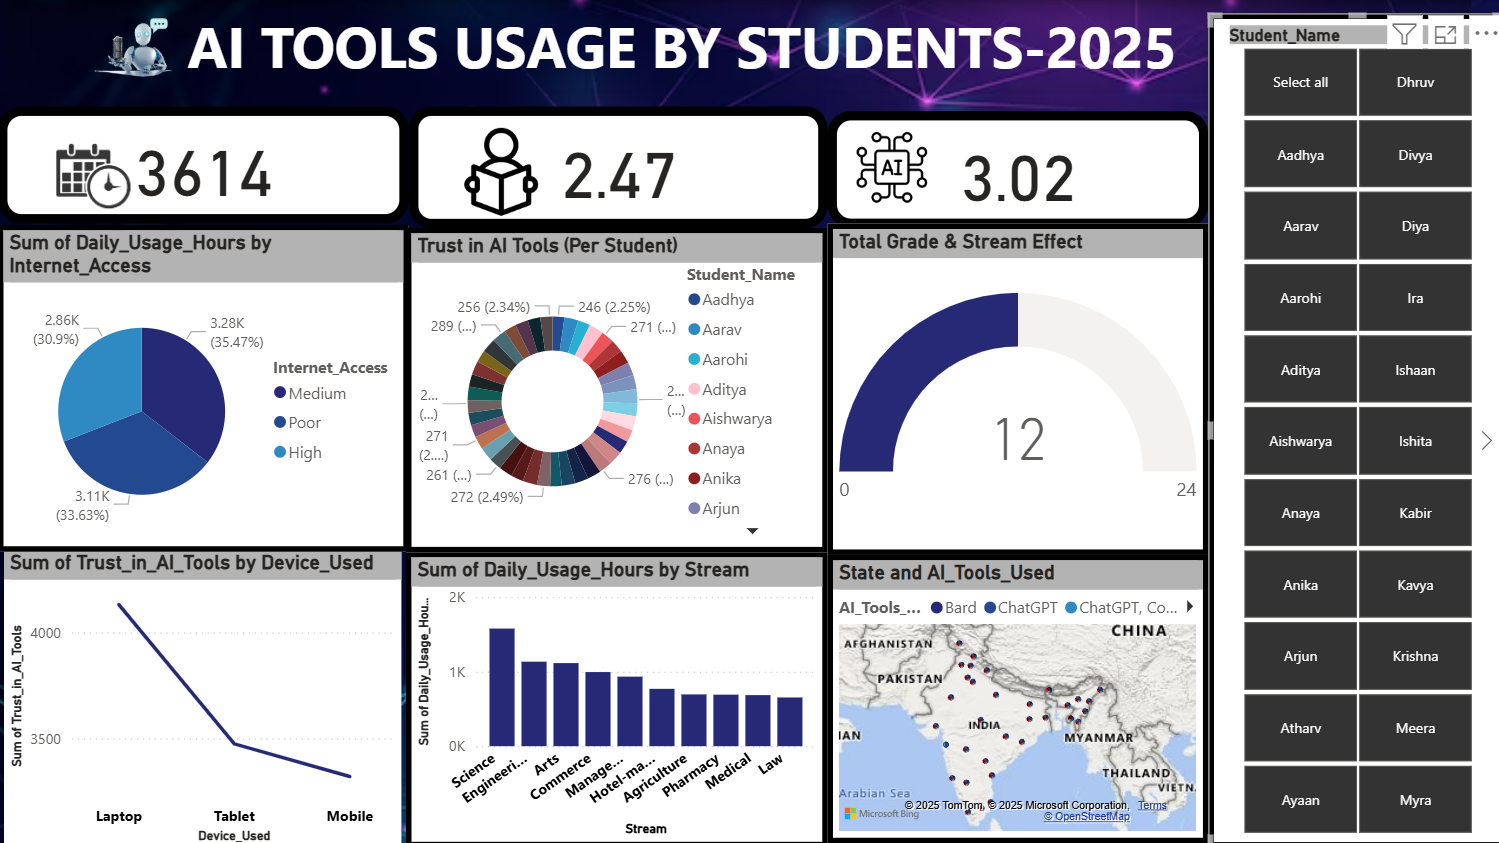

Layout of this report page (visuals, bound fields, positions):
{"tool":"powerbi","page":{"name":"Page 1","canvas":[1280,720],"ordinal":0},"visuals":[{"type":"textbox","box":[10.7,0,1239.8,79.5],"z":0},{"type":"columnChart","fields":{"Category":["Sheet1.Stream"],"Y":["Sheet1.Daily_Usage_Hours"]},"box":[346.3,468.5,357.8,250.8],"z":1000},{"type":"lineChart","fields":{"Y":["Sheet1.Trust_in_AI_Tools"],"Category":["Sheet1.Device_Used"]},"box":[5.1,467.3,337.4,252.1],"z":2000},{"type":"pieChart","fields":{"Y":["Sheet1.Daily_Usage_Hours"],"Category":["Sheet1.Internet_Access"]},"box":[0,191,348.9,277.6],"z":3000},{"type":"card","fields":{"Values":["Sheet1.Daily_Usage_Hours"]},"box":[0,90.4,361.6,103.1],"z":4000},{"type":"card","fields":{"Values":["Sheet1.Year_of_Study"]},"box":[348.9,90.4,355.2,103.1],"z":5000},{"type":"card","fields":{"Values":["Sheet1.Trust_in_AI_Tools"]},"box":[695.2,94.2,332.3,99.3],"z":6000},{"type":"donutChart","title":"Trust in AI Tools (Per Student)","fields":{"Series":["Sheet1.Student_Name"],"Y":["Sheet1.Trust_in_AI_Tools"]},"box":[346.3,193.5,357.8,275],"z":7000},{"type":"map","fields":{"Category":["Sheet1.State"],"Series":["Sheet1.AI_Tools_Used"]},"box":[704.1,471.1,323.4,244.5],"z":8000},{"type":"gauge","title":"Total Grade & Stream Effect","fields":{"Y":["Sheet1.Impact_on_Grades"]},"box":[704.1,189.7,323.4,281.4],"z":9000},{"type":"slicer","fields":{"Values":["Sheet1.Student_Name"]},"box":[1027.5,11.5,252.1,707.9],"z":10000},{"type":"image","box":[0,11.5,161.7,276.3],"z":11000},{"type":"image","box":[384.5,101.9,85.3,87.9],"z":12000},{"type":"image","box":[704.1,98,109.5,87.9],"z":13000},{"type":"image","box":[67.5,0,94.2,70],"z":14000}]}

Visuals, with their boxes in screenshot pixels (x1, y1, x2, y2), scaled from the page's 1280x720 canvas onto the 1499x843 screenshot:
textbox: select_region(13, 0, 1464, 93)
columnChart - Sheet1.Stream x Sheet1.Daily_Usage_Hours: select_region(406, 549, 825, 842)
lineChart - Sheet1.Trust_in_AI_Tools x Sheet1.Device_Used: select_region(6, 547, 401, 842)
pieChart - Sheet1.Daily_Usage_Hours x Sheet1.Internet_Access: select_region(0, 224, 409, 549)
card - Sheet1.Daily_Usage_Hours: select_region(0, 106, 423, 227)
card - Sheet1.Year_of_Study: select_region(409, 106, 825, 227)
card - Sheet1.Trust_in_AI_Tools: select_region(814, 110, 1203, 227)
"Trust in AI Tools (Per Student)" donutChart: select_region(406, 227, 825, 549)
map - Sheet1.State x Sheet1.AI_Tools_Used: select_region(825, 552, 1203, 838)
"Total Grade & Stream Effect" gauge: select_region(825, 222, 1203, 552)
slicer - Sheet1.Student_Name: select_region(1203, 13, 1498, 842)
image: select_region(0, 13, 189, 337)
image: select_region(450, 119, 550, 222)
image: select_region(825, 115, 953, 218)
image: select_region(79, 0, 189, 82)
